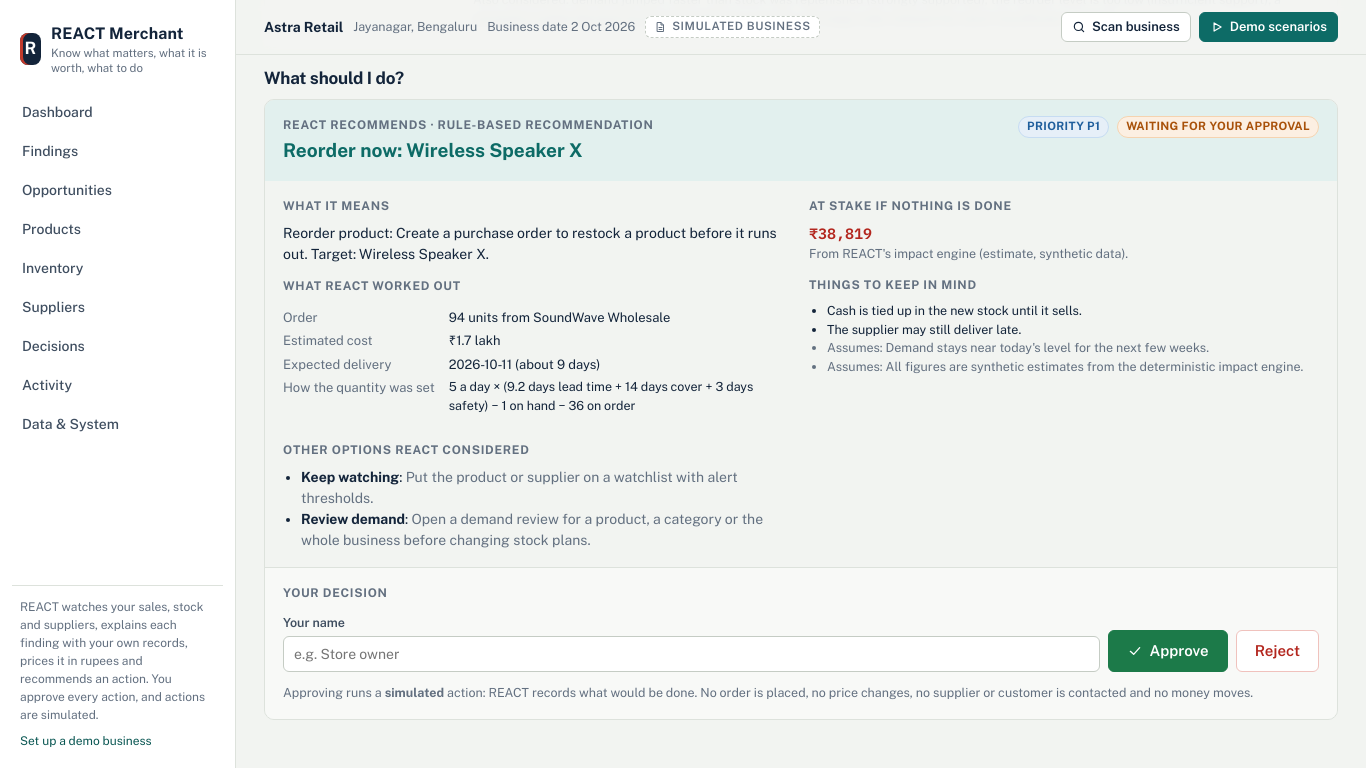
Test: Decision and approval › surfaces a backend refusal instead of pretending the approval worked
(page scrolled)
Type "Test reviewer" into the field labelled "Your name".
click(692, 654); type("Test reviewer")  # box top-left (283, 636), bottom-right (1100, 672)
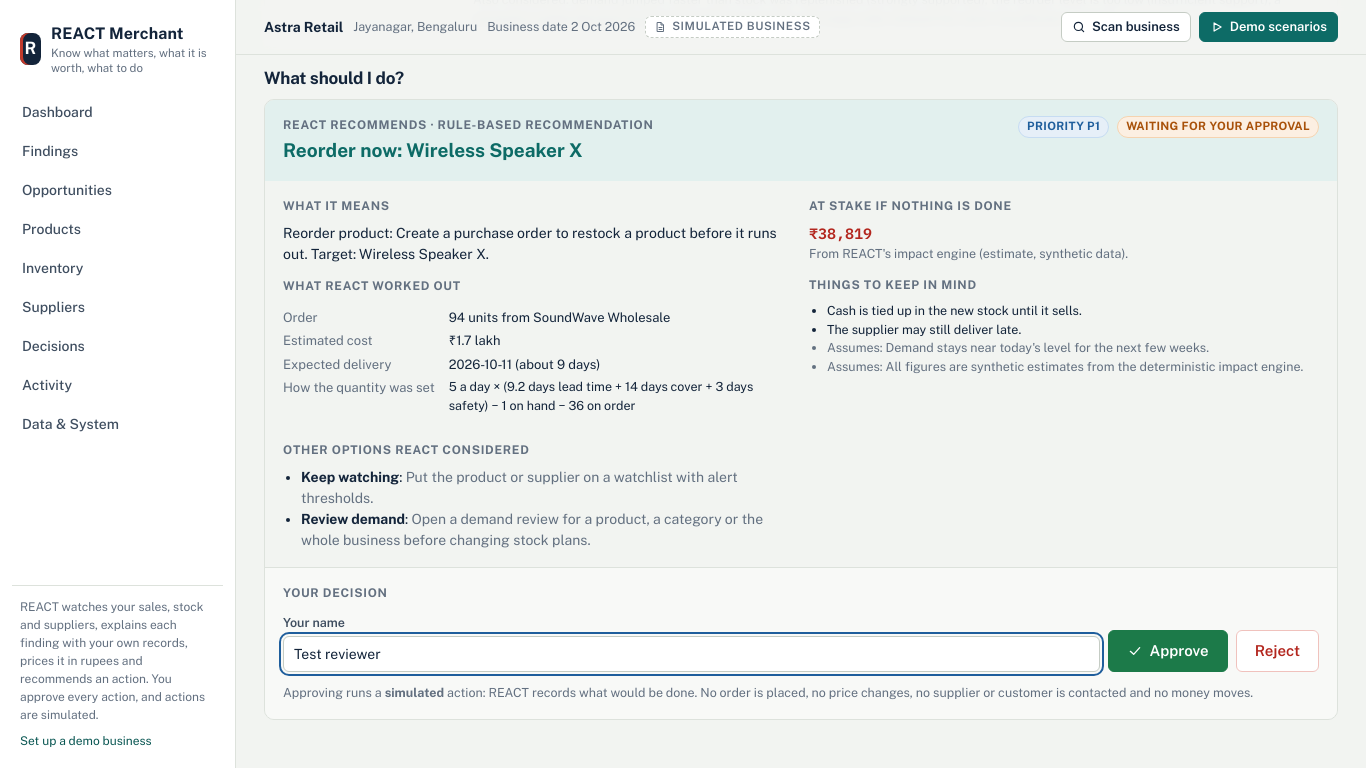
Click the button "Approve".
click(1168, 651)  # box top-left (1108, 630), bottom-right (1228, 672)
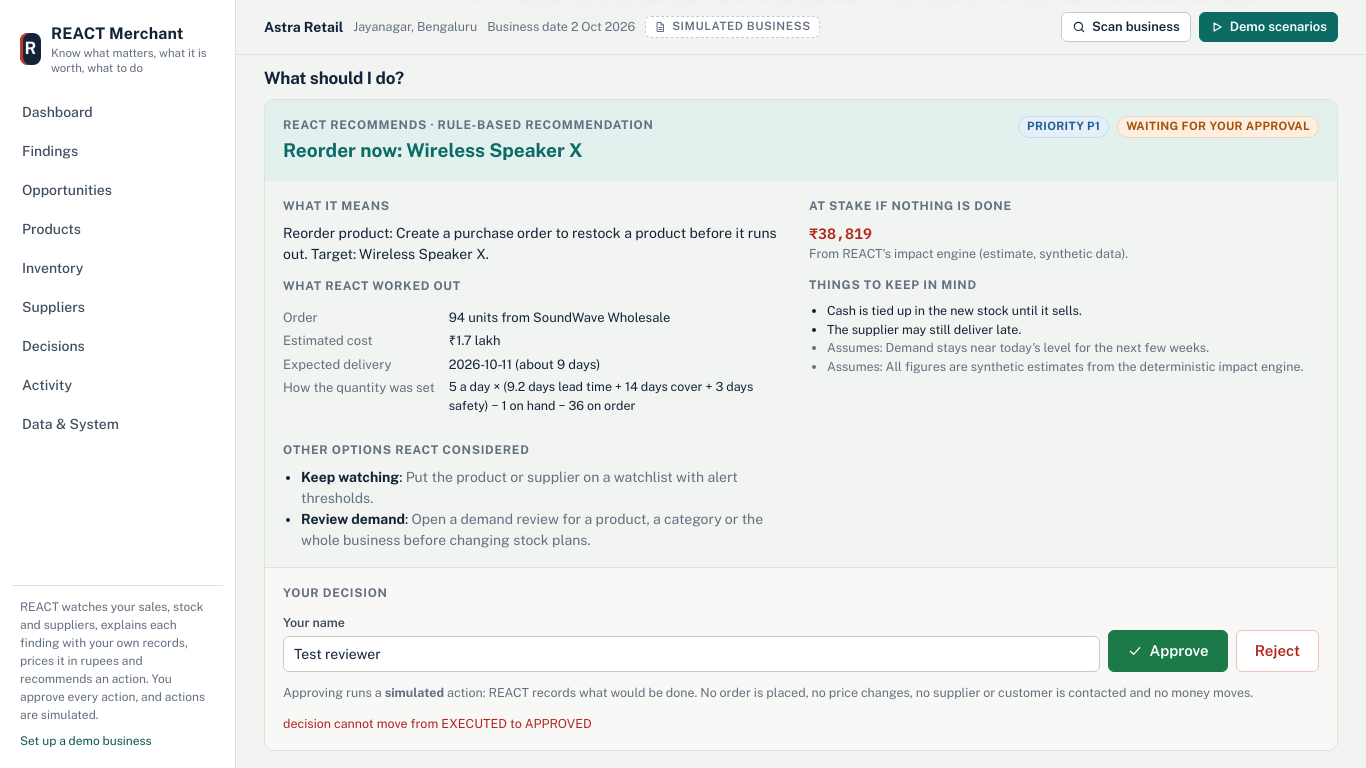
Result: the message shows "cannot move from EXECUTED" at top-left (283, 716), bottom-right (592, 731)
